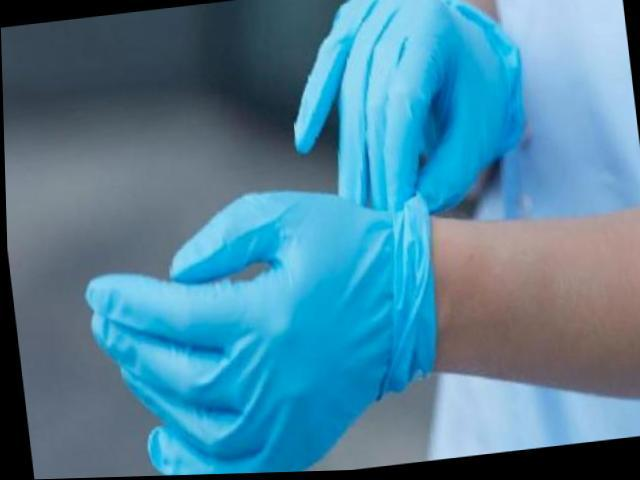Hand-in-Glove: (72, 180, 458, 478), (278, 0, 552, 222)
